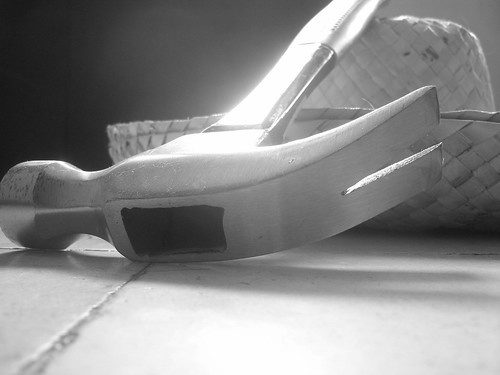hammer: (6, 1, 444, 263)
